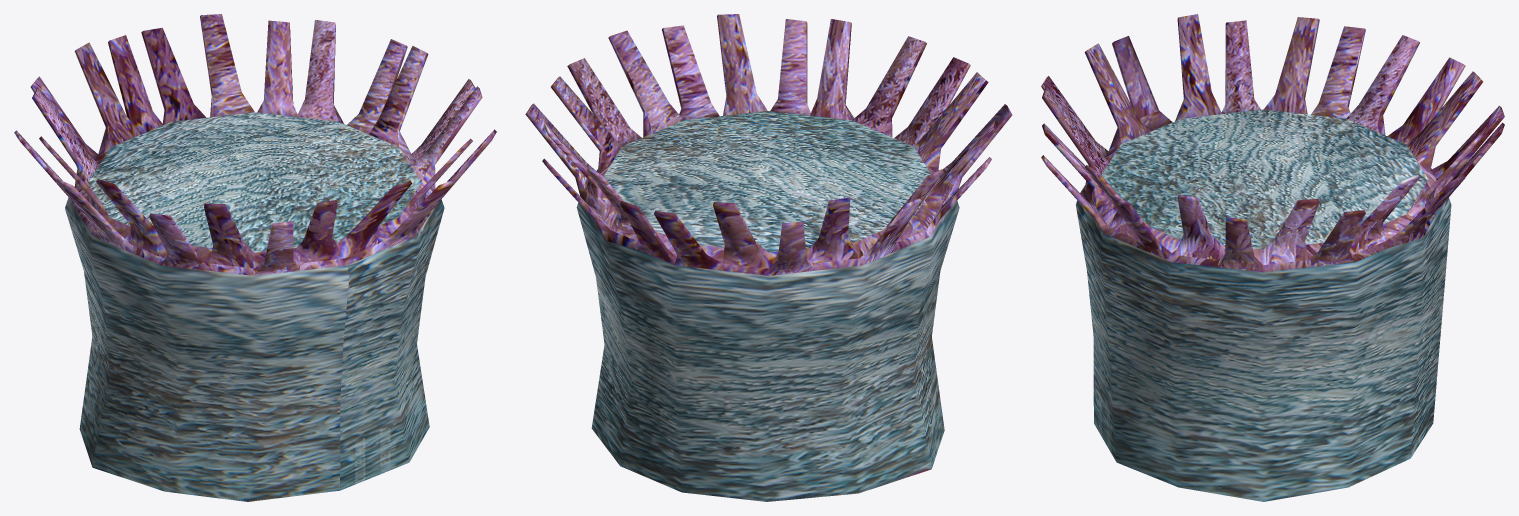
File: anemone.fbx
The picture shows the model from 3 angles, left to right: view 1: azimuth 30°, elevation 25°; view 2: azimuth 150°, elevation 25°; view 3: azimuth 270°, elevation 25°; orthographic projection.
Visible parts, largest first — view 1: Sphere; view 2: Sphere; view 3: Sphere.
Part boxes in pixels (x1,y1,x2,y2): Sphere: (14, 14, 496, 501); Sphere: (525, 14, 1012, 501); Sphere: (1041, 14, 1504, 501).
Size of the model in its own units: 1471 by 1082 by 1432.
